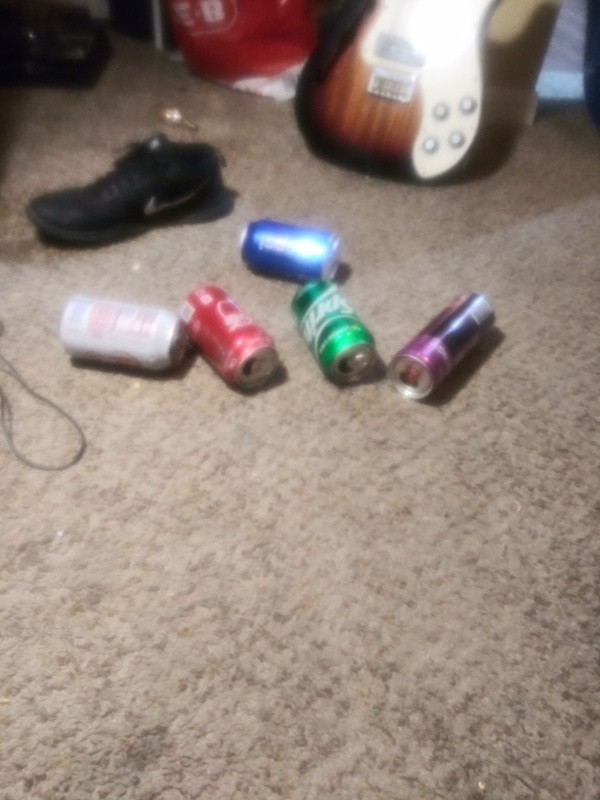can: (385, 286, 510, 402), (54, 294, 192, 383), (181, 282, 284, 399), (290, 277, 385, 386), (230, 215, 350, 283)
